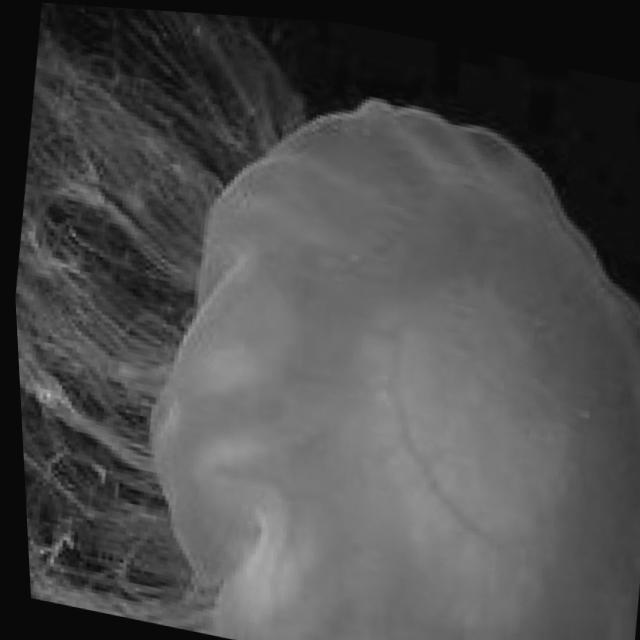Human: (95, 42, 640, 640)
